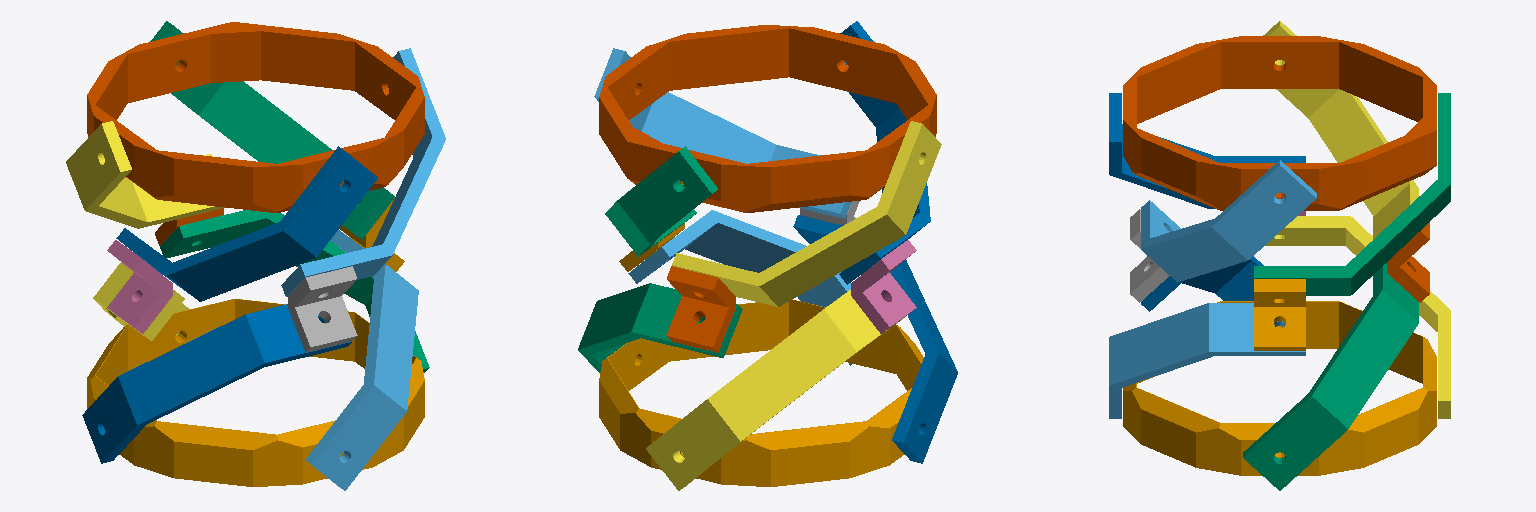
robot.urdf — final_project_simplified:
<?xml version="1.0" ?>
<robot name="final_project_simplified">
<mujoco>
  <compiler balanceinertia="true" discardvisual="false" meshdir="meshes" fusestatic="false"/>
</mujoco>

<link name="base_link">
  <inertial>
    <origin xyz="6.545477962881368e-17 1.5896160766997606e-16 -0.001046648811490513" rpy="0 0 0"/>
    <mass value="0.2386033444856632"/>
    <inertia ixx="0.00041830967579798475" iyy="0.0004183096757979853" izz="0.0008233312819620266" ixy="1.963371687452311e-18" iyz="-6.200914523714372e-20" ixz="-1.6346277843525653e-20"/>
  </inertial>
  <visual>
    <origin xyz="0 0 0" rpy="0 0 0"/>
    <geometry>
      <mesh filename="meshes/base_link.stl" scale="0.001 0.001 0.001"/>
    </geometry>

    
  </visual>
  <collision>
    <origin xyz="0 0 0" rpy="0 0 0"/>
    <geometry>
      <mesh filename="meshes/base_link.stl" scale="0.001 0.001 0.001"/>
    </geometry>
  </collision>
</link>

<link name="l_link_down4">
  <inertial>
    <origin xyz="0.02801688872157506 0.020733135994442112 0.028016888721575074" rpy="0 0 0"/>
    <mass value="0.09643048480330162"/>
    <inertia ixx="7.88749626235798e-05" iyy="5.475885459796495e-05" izz="7.887496262357972e-05" ixy="-3.146432362828854e-05" iyz="-3.14643236282885e-05" ixz="-2.4116108025676387e-05"/>
  </inertial>
  <visual>
    <origin xyz="0.0 0.060355 -0.0" rpy="0 0 0"/>
    <geometry>
      <mesh filename="meshes/l_link_down4.stl" scale="0.001 0.001 0.001"/>
    </geometry>

    
  </visual>
  <collision>
    <origin xyz="0.0 0.060355 -0.0" rpy="0 0 0"/>
    <geometry>
      <mesh filename="meshes/l_link_down4.stl" scale="0.001 0.001 0.001"/>
    </geometry>
  </collision>
</link>

<link name="l_link_down1">
  <inertial>
    <origin xyz="-0.020733135994442112 0.028016888721575053 0.028016888721575085" rpy="0 0 0"/>
    <mass value="0.09643048480330162"/>
    <inertia ixx="5.47588545979649e-05" iyy="7.887496262357974e-05" izz="7.887496262357974e-05" ixy="3.146432362828855e-05" iyz="-2.411610802567636e-05" ixz="3.146432362828855e-05"/>
  </inertial>
  <visual>
    <origin xyz="-0.060355 0.0 -0.0" rpy="0 0 0"/>
    <geometry>
      <mesh filename="meshes/l_link_down1.stl" scale="0.001 0.001 0.001"/>
    </geometry>

    
  </visual>
  <collision>
    <origin xyz="-0.060355 0.0 -0.0" rpy="0 0 0"/>
    <geometry>
      <mesh filename="meshes/l_link_down1.stl" scale="0.001 0.001 0.001"/>
    </geometry>
  </collision>
</link>

<link name="l_link_down2">
  <inertial>
    <origin xyz="-0.02801688872157505 -0.02073313599444212 0.028016888721575088" rpy="0 0 0"/>
    <mass value="0.09643048480330162"/>
    <inertia ixx="7.88749626235798e-05" iyy="5.47588545979649e-05" izz="7.88749626235798e-05" ixy="-3.1464323628288524e-05" iyz="3.146432362828854e-05" ixz="2.4116108025676428e-05"/>
  </inertial>
  <visual>
    <origin xyz="-0.0 -0.060355 -0.0" rpy="0 0 0"/>
    <geometry>
      <mesh filename="meshes/l_link_down2.stl" scale="0.001 0.001 0.001"/>
    </geometry>

    
  </visual>
  <collision>
    <origin xyz="-0.0 -0.060355 -0.0" rpy="0 0 0"/>
    <geometry>
      <mesh filename="meshes/l_link_down2.stl" scale="0.001 0.001 0.001"/>
    </geometry>
  </collision>
</link>

<link name="l_link_down3">
  <inertial>
    <origin xyz="0.020733135994442126 -0.02801688872157506 0.028016888721575074" rpy="0 0 0"/>
    <mass value="0.09643048480330162"/>
    <inertia ixx="5.47588545979649e-05" iyy="7.887496262357977e-05" izz="7.887496262357974e-05" ixy="3.146432362828854e-05" iyz="2.4116108025676387e-05" ixz="-3.14643236282885e-05"/>
  </inertial>
  <visual>
    <origin xyz="0.060355 -0.0 -0.0" rpy="0 0 0"/>
    <geometry>
      <mesh filename="meshes/l_link_down3.stl" scale="0.001 0.001 0.001"/>
    </geometry>

    
  </visual>
  <collision>
    <origin xyz="0.060355 -0.0 -0.0" rpy="0 0 0"/>
    <geometry>
      <mesh filename="meshes/l_link_down3.stl" scale="0.001 0.001 0.001"/>
    </geometry>
  </collision>
</link>

<link name="v_link4">
  <inertial>
    <origin xyz="-7.32472501200522e-15 0.04915865567859515 0.12075500000000021" rpy="0 0 0"/>
    <mass value="0.028819963707284894"/>
    <inertia ixx="2.3387931948114042e-06" iyy="2.8657005996045017e-06" izz="1.4974559265121772e-06" ixy="-1.0948200925150532e-19" iyz="0.0" ixz="-1.5519979550695305e-22"/>
  </inertial>
  <visual>
    <origin xyz="-0.0 0.0 0.065755" rpy="0 0 0"/>
    <geometry>
      <mesh filename="meshes/v_link4.stl" scale="0.001 0.001 0.001"/>
    </geometry>

    
  </visual>
  <collision>
    <origin xyz="-0.0 0.0 0.065755" rpy="0 0 0"/>
    <geometry>
      <mesh filename="meshes/v_link4.stl" scale="0.001 0.001 0.001"/>
    </geometry>
  </collision>
</link>

<link name="v_link1">
  <inertial>
    <origin xyz="-0.04915865567859516 -7.330596696685861e-15 0.12075500000000021" rpy="0 0 0"/>
    <mass value="0.028819963707284894"/>
    <inertia ixx="2.8657005996045017e-06" iyy="2.338793194811377e-06" izz="1.49745592651215e-06" ixy="1.0944974547816797e-19" iyz="-1.5519979549924933e-22" ixz="-4.0657581468206416e-20"/>
  </inertial>
  <visual>
    <origin xyz="-0.0 -0.0 0.065755" rpy="0 0 0"/>
    <geometry>
      <mesh filename="meshes/v_link1.stl" scale="0.001 0.001 0.001"/>
    </geometry>

    
  </visual>
  <collision>
    <origin xyz="-0.0 -0.0 0.065755" rpy="0 0 0"/>
    <geometry>
      <mesh filename="meshes/v_link1.stl" scale="0.001 0.001 0.001"/>
    </geometry>
  </collision>
</link>

<link name="v_link2">
  <inertial>
    <origin xyz="7.34034235359753e-15 -0.049158655678595176 0.12075500000000022" rpy="0 0 0"/>
    <mass value="0.028819963707284894"/>
    <inertia ixx="2.3387931948114313e-06" iyy="2.8657005996045423e-06" izz="1.4974559265121907e-06" ixy="-1.0948200925150532e-19" iyz="-1.3552527156068805e-20" ixz="5.216569623879936e-23"/>
  </inertial>
  <visual>
    <origin xyz="0.0 -0.0 0.065755" rpy="0 0 0"/>
    <geometry>
      <mesh filename="meshes/v_link2.stl" scale="0.001 0.001 0.001"/>
    </geometry>

    

    
  </visual>
  <collision>
    <origin xyz="0.0 -0.0 0.065755" rpy="0 0 0"/>
    <geometry>
      <mesh filename="meshes/v_link2.stl" scale="0.001 0.001 0.001"/>
    </geometry>
  </collision>
</link>

<link name="v_link3">
  <inertial>
    <origin xyz="0.04915865567859516 7.354447085013556e-15 0.120755" rpy="0 0 0"/>
    <mass value="0.028819963707284894"/>
    <inertia ixx="2.8657005996045152e-06" iyy="2.33879319481135e-06" izz="1.4974559265121772e-06" ixy="1.0962483466765328e-19" iyz="0.0" ixz="1.3552527156068805e-20"/>
  </inertial>
  <visual>
    <origin xyz="0.0 0.0 0.065755" rpy="0 0 0"/>
    <geometry>
      <mesh filename="meshes/v_link3.stl" scale="0.001 0.001 0.001"/>
    </geometry>

    
  </visual>
  <collision>
    <origin xyz="0.0 0.0 0.065755" rpy="0 0 0"/>
    <geometry>
      <mesh filename="meshes/v_link3.stl" scale="0.001 0.001 0.001"/>
    </geometry>
  </collision>
</link>

<link name="l_link_up1">
  <inertial>
    <origin xyz="0.039621864005557846 -0.07479588872157564 0.018762111278425156" rpy="0 0 0"/>
    <mass value="0.09643048480330162"/>
    <inertia ixx="5.475885459796479e-05" iyy="7.887496262357974e-05" izz="7.887496262357982e-05" ixy="-3.146432362828855e-05" iyz="-2.4116108025676238e-05" ixz="-3.146432362828859e-05"/>
  </inertial>
  <visual>
    <origin xyz="-0.0 -0.046779 -0.063221" rpy="0 0 0"/>
    <geometry>
      <mesh filename="meshes/l_link_up1.stl" scale="0.001 0.001 0.001"/>
    </geometry>

    
  </visual>
  <collision>
    <origin xyz="-0.0 -0.046779 -0.063221" rpy="0 0 0"/>
    <geometry>
      <mesh filename="meshes/l_link_up1.stl" scale="0.001 0.001 0.001"/>
    </geometry>
  </collision>
</link>

<link name="l_link_up2">
  <inertial>
    <origin xyz="0.07479588872157573 0.03962186400555784 0.01876211127842521" rpy="0 0 0"/>
    <mass value="0.09643048480330162"/>
    <inertia ixx="7.887496262357974e-05" iyy="5.475885459796479e-05" izz="7.887496262357977e-05" ixy="3.146432362828858e-05" iyz="-3.1464323628288484e-05" ixz="2.41161080256764e-05"/>
  </inertial>
  <visual>
    <origin xyz="0.046779 -0.0 -0.063221" rpy="0 0 0"/>
    <geometry>
      <mesh filename="meshes/l_link_up2.stl" scale="0.001 0.001 0.001"/>
    </geometry>

    

    
  </visual>
  <collision>
    <origin xyz="0.046779 -0.0 -0.063221" rpy="0 0 0"/>
    <geometry>
      <mesh filename="meshes/l_link_up2.stl" scale="0.001 0.001 0.001"/>
    </geometry>
  </collision>
</link>

<link name="l_link_up3">
  <inertial>
    <origin xyz="-0.039621864005557825 0.07479588872157567 0.018762111278425198" rpy="0 0 0"/>
    <mass value="0.09643048480330162"/>
    <inertia ixx="5.47588545979649e-05" iyy="7.887496262357942e-05" izz="7.88749626235799e-05" ixy="-3.1464323628288565e-05" iyz="2.41161080256764e-05" ixz="3.1464323628288484e-05"/>
  </inertial>
  <visual>
    <origin xyz="0.0 0.046779 -0.063221" rpy="0 0 0"/>
    <geometry>
      <mesh filename="meshes/l_link_up3.stl" scale="0.001 0.001 0.001"/>
    </geometry>

    
  </visual>
  <collision>
    <origin xyz="0.0 0.046779 -0.063221" rpy="0 0 0"/>
    <geometry>
      <mesh filename="meshes/l_link_up3.stl" scale="0.001 0.001 0.001"/>
    </geometry>
  </collision>
</link>

<link name="l_link_up4">
  <inertial>
    <origin xyz="-0.07479588872157569 -0.03962186400555784 0.018762111278425156" rpy="0 0 0"/>
    <mass value="0.09643048480330162"/>
    <inertia ixx="7.887496262357974e-05" iyy="5.47588545979649e-05" izz="7.88749626235798e-05" ixy="3.146432362828859e-05" iyz="3.146432362828854e-05" ixz="-2.4116108025676428e-05"/>
  </inertial>
  <visual>
    <origin xyz="-0.046779 0.0 -0.063221" rpy="0 0 0"/>
    <geometry>
      <mesh filename="meshes/l_link_up4.stl" scale="0.001 0.001 0.001"/>
    </geometry>

    
  </visual>
  <collision>
    <origin xyz="-0.046779 0.0 -0.063221" rpy="0 0 0"/>
    <geometry>
      <mesh filename="meshes/l_link_up4.stl" scale="0.001 0.001 0.001"/>
    </geometry>
  </collision>
</link>

<link name="ring1">
  <inertial>
    <origin xyz="-0.059833654964483 0.08000632368037011 -0.07674349999362522" rpy="0 0 0"/>
    <mass value="0.24864430722554734"/>
    <inertia ixx="0.0004479323243780139" iyy="0.0004237523074340382" izz="0.0008578089506811553" ixy="-1.2090008471991263e-05" iyz="8.172855316997e-08" ixz="3.3853075155720164e-08"/>
  </inertial>
  <visual>
    <origin xyz="-0.060755 0.077782 -0.187782" rpy="0 0 0"/>
    <geometry>
      <mesh filename="meshes/ring1.stl" scale="0.001 0.001 0.001"/>
    </geometry>

    
    
  </visual>
  <collision>
    <origin xyz="-0.060755 0.077782 -0.187782" rpy="0 0 0"/>
    <geometry>
      <mesh filename="meshes/ring1.stl" scale="0.001 0.001 0.001"/>
    </geometry>
  </collision>
</link>

<joint name="Revolute_55" type="continuous">
  <origin xyz="0.0 -0.060355 0.0" rpy="0 0 0"/>
  <parent link="base_link"/>
  <child link="l_link_down4"/>
  <axis xyz="0.0 1.0 0.0"/>
</joint>
<transmission name="Revolute_55_tran">
  <type>transmission_interface/SimpleTransmission</type>
  <joint name="Revolute_55">
    <hardwareInterface>PositionJointInterface</hardwareInterface>
  </joint>
  <actuator name="Revolute_55_actr">
    <hardwareInterface>PositionJointInterface</hardwareInterface>
    <mechanicalReduction>1</mechanicalReduction>
  </actuator>
</transmission>

<joint name="Revolute_56" type="continuous">
  <origin xyz="0.060355 0.0 0.0" rpy="0 0 0"/>
  <parent link="base_link"/>
  <child link="l_link_down1"/>
  <axis xyz="-1.0 0.0 0.0"/>
</joint>
<transmission name="Revolute_56_tran">
  <type>transmission_interface/SimpleTransmission</type>
  <joint name="Revolute_56">
    <hardwareInterface>PositionJointInterface</hardwareInterface>
  </joint>
  <actuator name="Revolute_56_actr">
    <hardwareInterface>PositionJointInterface</hardwareInterface>
    <mechanicalReduction>1</mechanicalReduction>
  </actuator>
</transmission>

<joint name="Revolute_57" type="continuous">
  <origin xyz="0.0 0.060355 0.0" rpy="0 0 0"/>
  <parent link="base_link"/>
  <child link="l_link_down2"/>
  <axis xyz="-0.0 -1.0 0.0"/>
</joint>
<transmission name="Revolute_57_tran">
  <type>transmission_interface/SimpleTransmission</type>
  <joint name="Revolute_57">
    <hardwareInterface>PositionJointInterface</hardwareInterface>
  </joint>
  <actuator name="Revolute_57_actr">
    <hardwareInterface>PositionJointInterface</hardwareInterface>
    <mechanicalReduction>1</mechanicalReduction>
  </actuator>
</transmission>

<joint name="Revolute_58" type="continuous">
  <origin xyz="-0.060355 0.0 0.0" rpy="0 0 0"/>
  <parent link="base_link"/>
  <child link="l_link_down3"/>
  <axis xyz="1.0 -0.0 0.0"/>
</joint>
<transmission name="Revolute_58_tran">
  <type>transmission_interface/SimpleTransmission</type>
  <joint name="Revolute_58">
    <hardwareInterface>PositionJointInterface</hardwareInterface>
  </joint>
  <actuator name="Revolute_58_actr">
    <hardwareInterface>PositionJointInterface</hardwareInterface>
    <mechanicalReduction>1</mechanicalReduction>
  </actuator>
</transmission>

<joint name="Revolute_59" type="continuous">
  <origin xyz="-0.060355 0.0 -0.065755" rpy="0 0 0"/>
  <parent link="l_link_down1"/>
  <child link="v_link4"/>
  <axis xyz="-0.0 -0.707107 -0.707107"/>
</joint>
<transmission name="Revolute_59_tran">
  <type>transmission_interface/SimpleTransmission</type>
  <joint name="Revolute_59">
    <hardwareInterface>PositionJointInterface</hardwareInterface>
  </joint>
  <actuator name="Revolute_59_actr">
    <hardwareInterface>PositionJointInterface</hardwareInterface>
    <mechanicalReduction>1</mechanicalReduction>
  </actuator>
</transmission>

<joint name="Revolute_60" type="continuous">
  <origin xyz="0.0 -0.060355 -0.065755" rpy="0 0 0"/>
  <parent link="l_link_down2"/>
  <child link="v_link1"/>
  <axis xyz="0.707107 -0.0 -0.707107"/>
</joint>
<transmission name="Revolute_60_tran">
  <type>transmission_interface/SimpleTransmission</type>
  <joint name="Revolute_60">
    <hardwareInterface>PositionJointInterface</hardwareInterface>
  </joint>
  <actuator name="Revolute_60_actr">
    <hardwareInterface>PositionJointInterface</hardwareInterface>
    <mechanicalReduction>1</mechanicalReduction>
  </actuator>
</transmission>

<joint name="Revolute_61" type="continuous">
  <origin xyz="0.060355 0.0 -0.065755" rpy="0 0 0"/>
  <parent link="l_link_down3"/>
  <child link="v_link2"/>
  <axis xyz="0.0 0.707107 -0.707107"/>
</joint>
<transmission name="Revolute_61_tran">
  <type>transmission_interface/SimpleTransmission</type>
  <joint name="Revolute_61">
    <hardwareInterface>PositionJointInterface</hardwareInterface>
  </joint>
  <actuator name="Revolute_61_actr">
    <hardwareInterface>PositionJointInterface</hardwareInterface>
    <mechanicalReduction>1</mechanicalReduction>
  </actuator>
</transmission>

<joint name="Revolute_62" type="continuous">
  <origin xyz="0.0 0.060355 -0.065755" rpy="0 0 0"/>
  <parent link="l_link_down4"/>
  <child link="v_link3"/>
  <axis xyz="-0.707107 0.0 -0.707107"/>
</joint>
<transmission name="Revolute_62_tran">
  <type>transmission_interface/SimpleTransmission</type>
  <joint name="Revolute_62">
    <hardwareInterface>PositionJointInterface</hardwareInterface>
  </joint>
  <actuator name="Revolute_62_actr">
    <hardwareInterface>PositionJointInterface</hardwareInterface>
    <mechanicalReduction>1</mechanicalReduction>
  </actuator>
</transmission>

<joint name="Revolute_67" type="continuous">
  <origin xyz="0.0 0.046779 0.128976" rpy="0 0 0"/>
  <parent link="v_link2"/>
  <child link="l_link_up1"/>
  <axis xyz="-0.0 -0.707107 -0.707107"/>
</joint>
<transmission name="Revolute_67_tran">
  <type>transmission_interface/SimpleTransmission</type>
  <joint name="Revolute_67">
    <hardwareInterface>PositionJointInterface</hardwareInterface>
  </joint>
  <actuator name="Revolute_67_actr">
    <hardwareInterface>PositionJointInterface</hardwareInterface>
    <mechanicalReduction>1</mechanicalReduction>
  </actuator>
</transmission>

<joint name="Revolute_68" type="continuous">
  <origin xyz="-0.046779 0.0 0.128976" rpy="0 0 0"/>
  <parent link="v_link3"/>
  <child link="l_link_up2"/>
  <axis xyz="0.707107 -0.0 -0.707107"/>
</joint>
<transmission name="Revolute_68_tran">
  <type>transmission_interface/SimpleTransmission</type>
  <joint name="Revolute_68">
    <hardwareInterface>PositionJointInterface</hardwareInterface>
  </joint>
  <actuator name="Revolute_68_actr">
    <hardwareInterface>PositionJointInterface</hardwareInterface>
    <mechanicalReduction>1</mechanicalReduction>
  </actuator>
</transmission>

<joint name="Revolute_69" type="continuous">
  <origin xyz="-0.0 -0.046779 0.128976" rpy="0 0 0"/>
  <parent link="v_link4"/>
  <child link="l_link_up3"/>
  <axis xyz="0.0 0.707107 -0.707107"/>
</joint>
<transmission name="Revolute_69_tran">
  <type>transmission_interface/SimpleTransmission</type>
  <joint name="Revolute_69">
    <hardwareInterface>PositionJointInterface</hardwareInterface>
  </joint>
  <actuator name="Revolute_69_actr">
    <hardwareInterface>PositionJointInterface</hardwareInterface>
    <mechanicalReduction>1</mechanicalReduction>
  </actuator>
</transmission>

<joint name="Revolute_70" type="continuous">
  <origin xyz="0.046779 -0.0 0.128976" rpy="0 0 0"/>
  <parent link="v_link1"/>
  <child link="l_link_up4"/>
  <axis xyz="-0.707107 0.0 -0.707107"/>
</joint>
<transmission name="Revolute_70_tran">
  <type>transmission_interface/SimpleTransmission</type>
  <joint name="Revolute_70">
    <hardwareInterface>PositionJointInterface</hardwareInterface>
  </joint>
  <actuator name="Revolute_70_actr">
    <hardwareInterface>PositionJointInterface</hardwareInterface>
    <mechanicalReduction>1</mechanicalReduction>
  </actuator>
</transmission>

<joint name="Revolute_71" type="continuous">
  <origin xyz="0.060755 -0.124561 0.124561" rpy="0 0 0"/>
  <parent link="l_link_up1"/>
  <child link="ring1"/>
  <axis xyz="-1.0 0.0 0.0"/>
</joint>
<transmission name="Revolute_71_tran">
  <type>transmission_interface/SimpleTransmission</type>
  <joint name="Revolute_71">
    <hardwareInterface>PositionJointInterface</hardwareInterface>
  </joint>
  <actuator name="Revolute_71_actr">
    <hardwareInterface>PositionJointInterface</hardwareInterface>
    <mechanicalReduction>1</mechanicalReduction>
  </actuator>
</transmission>

</robot>

--- Facts derived from the render (not from the file) ---
3 views of the same robot in one strip: view 1: azimuth 30°, elevation 25°; view 2: azimuth 150°, elevation 25°; view 3: azimuth 270°, elevation 25° (orthographic).
Model final_project_simplified with 14 links and 13 joints (13 continuous), rooted at base_link, posed every joint at zero.
Links seen in each view (by area): view 1: ring1, base_link, l_link_down3, l_link_up4, l_link_down4, l_link_up2, l_link_up3, l_link_up1, v_link2, l_link_down1, v_link1, l_link_down2 (+2 smaller); view 2: ring1, base_link, l_link_down2, l_link_up3, l_link_up1, l_link_down3, l_link_down4, l_link_up2, l_link_down1, v_link4, v_link1, l_link_up4 (+1 smaller); view 3: ring1, base_link, l_link_down1, l_link_up1, l_link_down4, l_link_up2, l_link_up3, l_link_down2, v_link3, l_link_up4, l_link_down3, v_link4 (+1 smaller).
Link boxes in pixels (x1=…): ring1: x1=87, y1=22, x2=424, y2=212; base_link: x1=87, y1=299, x2=424, y2=486; l_link_down3: x1=82, y1=304, x2=351, y2=463; l_link_up4: x1=116, y1=146, x2=377, y2=301; l_link_down4: x1=306, y1=230, x2=418, y2=490; l_link_up2: x1=150, y1=21, x2=394, y2=239; l_link_up3: x1=66, y1=121, x2=224, y2=228; l_link_up1: x1=281, y1=48, x2=445, y2=296; v_link2: x1=288, y1=266, x2=357, y2=352; l_link_down1: x1=160, y1=210, x2=429, y2=372; v_link1: x1=107, y1=240, x2=172, y2=333; l_link_down2: x1=93, y1=262, x2=189, y2=340; ring1: x1=599, y1=25, x2=936, y2=212; base_link: x1=599, y1=299, x2=923, y2=486; l_link_down2: x1=646, y1=290, x2=904, y2=490; l_link_up3: x1=672, y1=121, x2=941, y2=306; l_link_up1: x1=594, y1=48, x2=851, y2=218; l_link_down3: x1=793, y1=215, x2=957, y2=463; l_link_down4: x1=628, y1=210, x2=851, y2=365; l_link_up2: x1=605, y1=146, x2=717, y2=256; l_link_down1: x1=578, y1=283, x2=742, y2=372; v_link4: x1=666, y1=266, x2=735, y2=352; v_link1: x1=851, y1=240, x2=916, y2=333; l_link_up4: x1=839, y1=21, x2=930, y2=284; ring1: x1=1123, y1=36, x2=1436, y2=210; base_link: x1=1123, y1=301, x2=1436, y2=475; l_link_down1: x1=1243, y1=263, x2=1418, y2=490; l_link_up1: x1=1141, y1=160, x2=1316, y2=282; l_link_down4: x1=1109, y1=303, x2=1305, y2=418; l_link_up2: x1=1254, y1=93, x2=1450, y2=295; l_link_up3: x1=1263, y1=21, x2=1418, y2=239; l_link_down2: x1=1265, y1=216, x2=1450, y2=418; v_link3: x1=1254, y1=279, x2=1305, y2=350; l_link_up4: x1=1109, y1=93, x2=1305, y2=208; l_link_down3: x1=1141, y1=256, x2=1263, y2=311; v_link4: x1=1387, y1=222, x2=1429, y2=302.
Bounding box of the posed robot: 0.1315 × 0.1315 × 0.1383 m (x, y, z).
Meshes: 14 distinct files referenced, 14 mesh visuals loaded (14 binary STL).